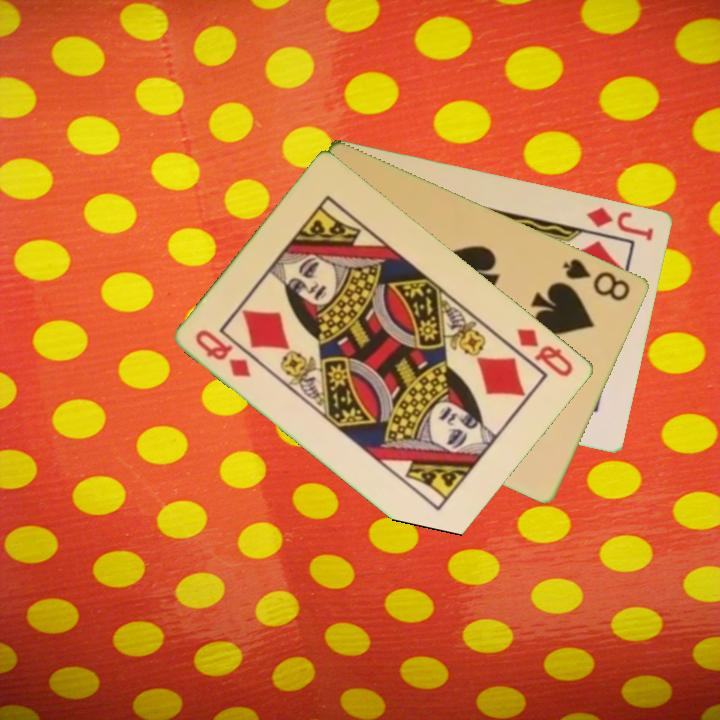8s: (559, 255, 634, 304)
Jd: (583, 203, 657, 243)
Qd: (513, 324, 577, 380), (192, 325, 255, 381)
